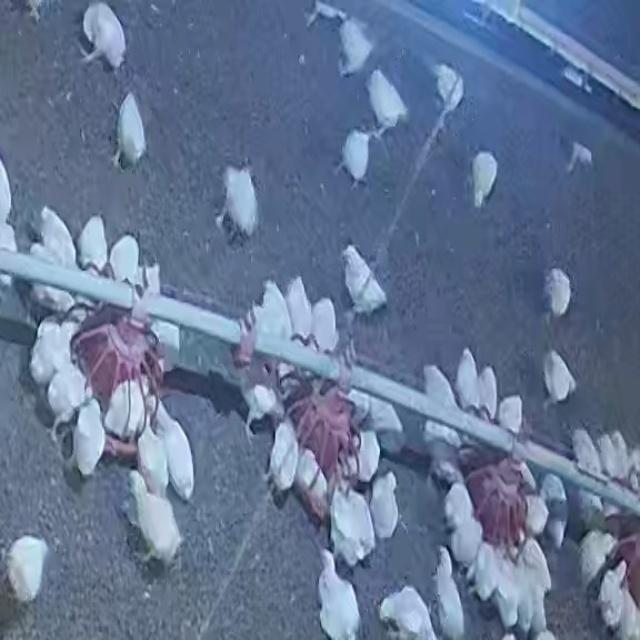chicken: (124, 468, 184, 567), (211, 162, 269, 242), (156, 400, 197, 500), (315, 551, 361, 640), (339, 242, 392, 316), (327, 486, 375, 567), (430, 549, 466, 640), (5, 534, 50, 604), (79, 2, 125, 70), (72, 396, 108, 478), (366, 68, 409, 135), (114, 90, 148, 172), (256, 278, 294, 351), (46, 367, 94, 424), (594, 562, 630, 634), (135, 416, 171, 488), (38, 207, 77, 269), (353, 390, 403, 438), (576, 528, 616, 588), (336, 15, 375, 76), (369, 471, 400, 541), (352, 423, 384, 488), (540, 473, 568, 547), (76, 212, 110, 272), (284, 275, 314, 343), (542, 349, 577, 407), (338, 128, 372, 186), (271, 415, 295, 496), (454, 347, 482, 415), (108, 232, 141, 286), (298, 447, 328, 506), (470, 152, 499, 208), (434, 63, 464, 114), (543, 267, 572, 319), (572, 426, 602, 476), (510, 563, 531, 633), (495, 559, 516, 627), (451, 516, 484, 556), (480, 367, 503, 423), (472, 543, 493, 602), (496, 393, 524, 437), (600, 436, 620, 482)
